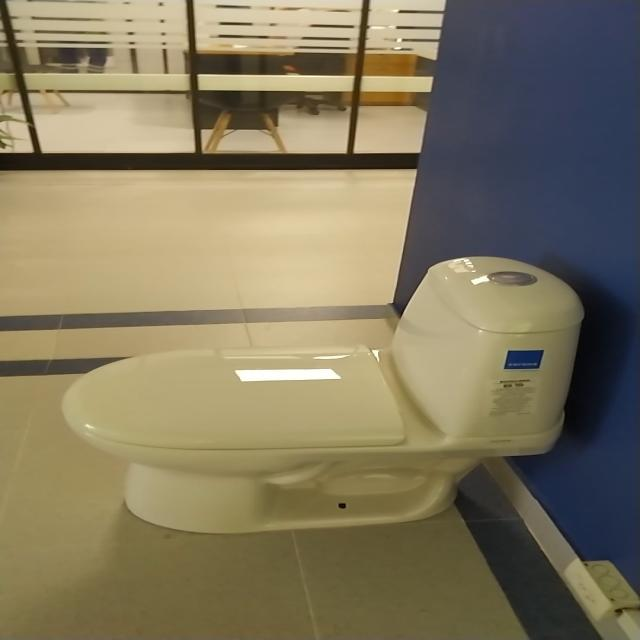toilet: (60, 255, 585, 534)
